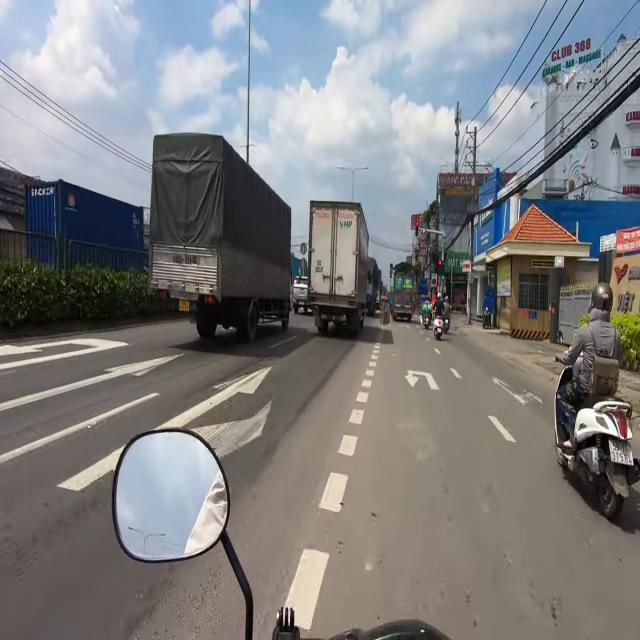bien_vang: (608, 436, 634, 466)
